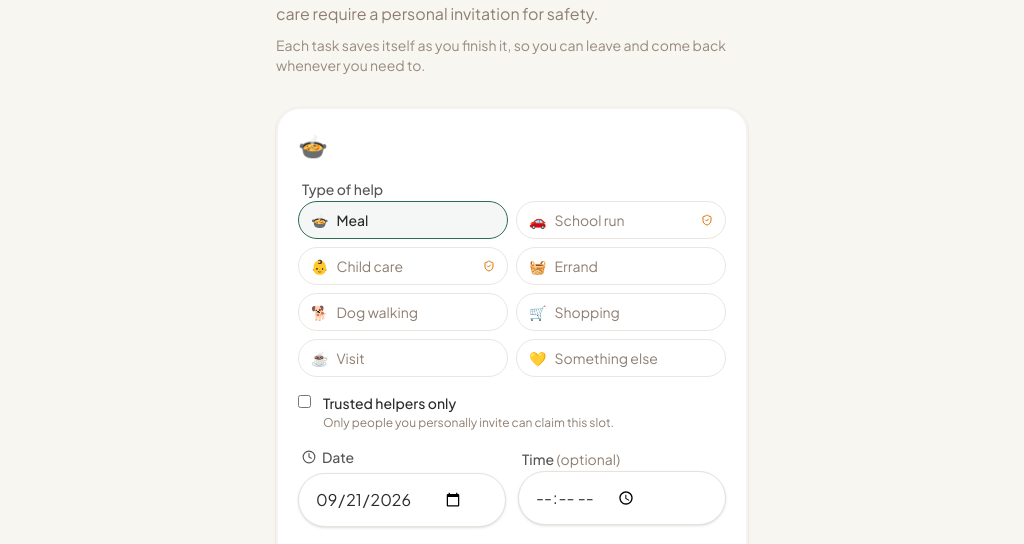
Test case: row #144, door 2 — the setup wizard's task cards › Continue with a half-typed time writes nothing, says so beside the box, and focuses it
Type "2026-09-23" into the date field at (402, 500), box [298,473,506,527]
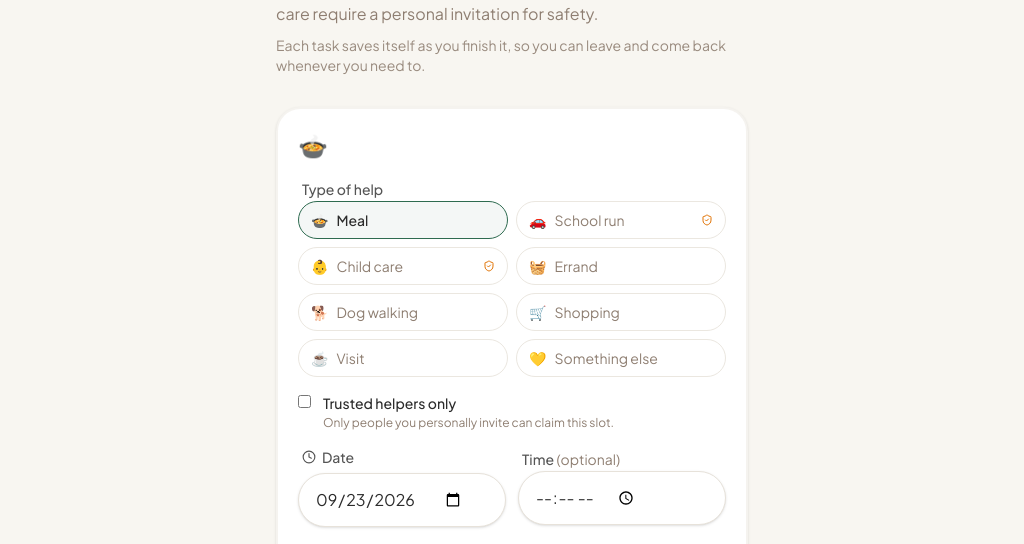
Clear the time field at (622, 498), box [518,471,726,525]
(page scrolled)
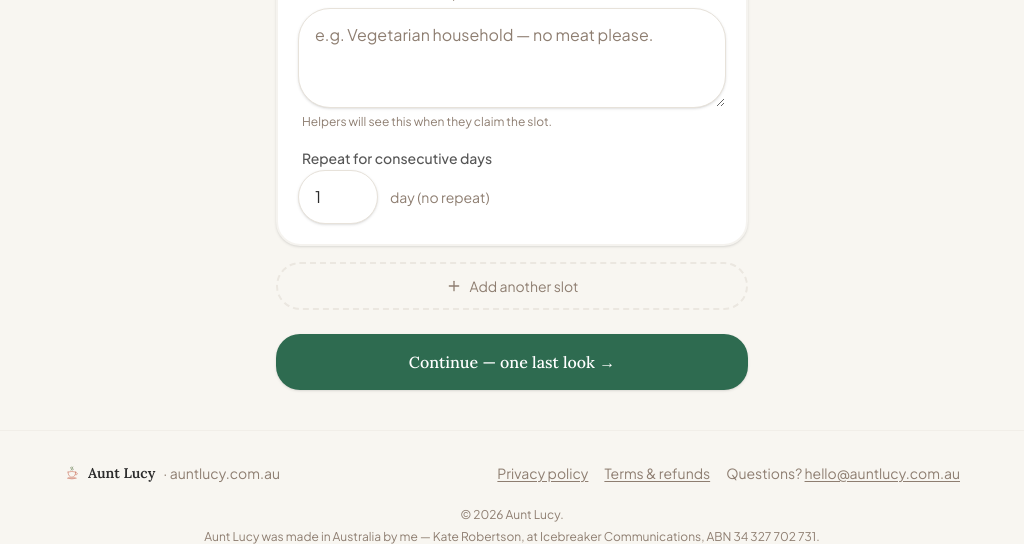
Click the button "Continue — one last look →" at (512, 362), box [276,334,748,390]
(page scrolled)
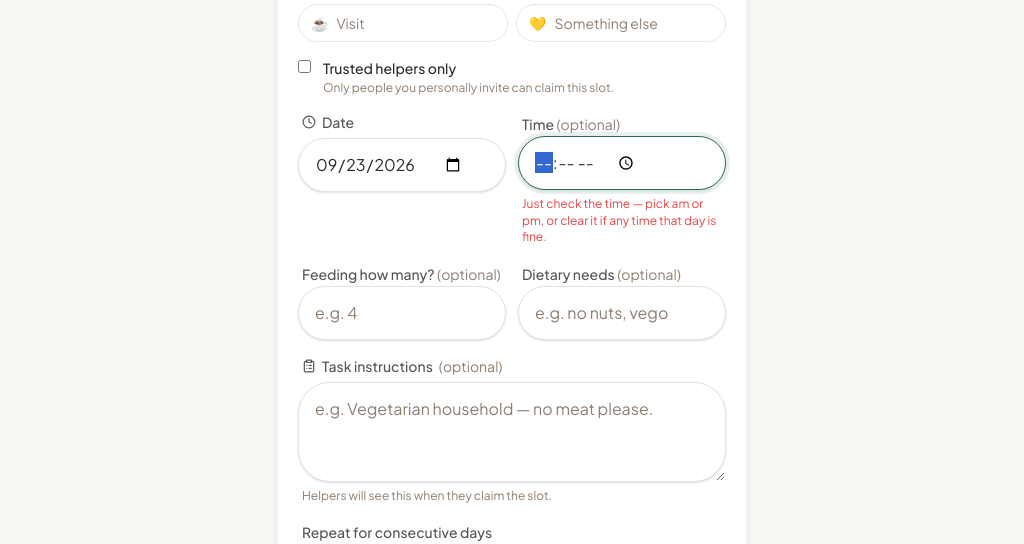
Check: the text with test id "slot-time-help" reads "Just check the time — pick am or pm, or clear it if any time that day is fine.", box [522,196,716,244]
